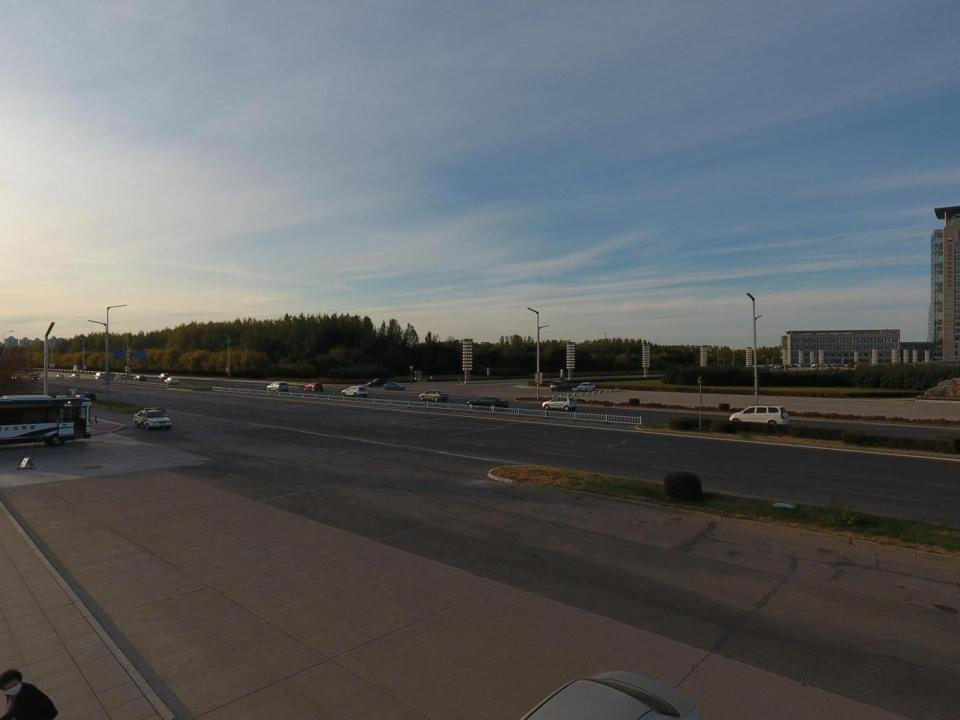bus: (0, 388, 99, 451)
car: (728, 404, 789, 429), (132, 407, 172, 430), (467, 395, 509, 412), (541, 396, 579, 412), (418, 389, 450, 402), (342, 385, 370, 399), (266, 380, 290, 393), (382, 380, 407, 391), (367, 377, 390, 388), (550, 380, 573, 391), (575, 381, 596, 392), (304, 381, 324, 392), (164, 376, 180, 386), (132, 374, 147, 383), (158, 373, 170, 382), (92, 372, 105, 380), (68, 373, 81, 380), (28, 373, 41, 380), (54, 374, 66, 380)
